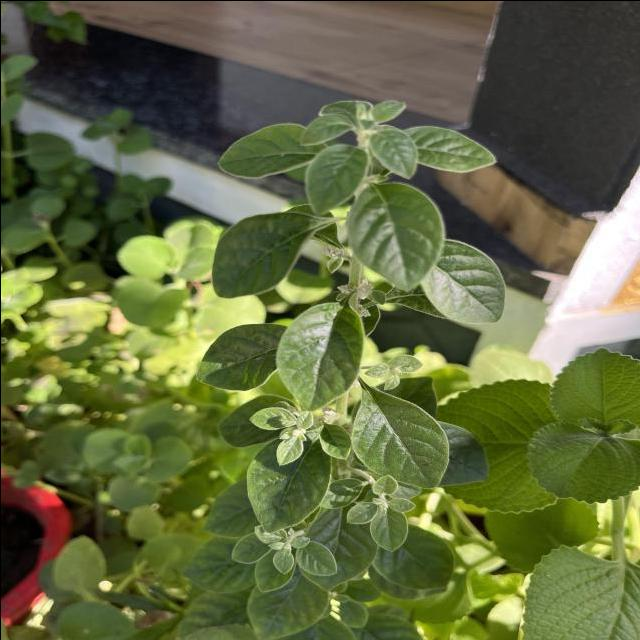Aerva lanata: (270, 294, 368, 414), (347, 384, 452, 492), (243, 424, 334, 536), (418, 237, 510, 326), (192, 318, 287, 392)
